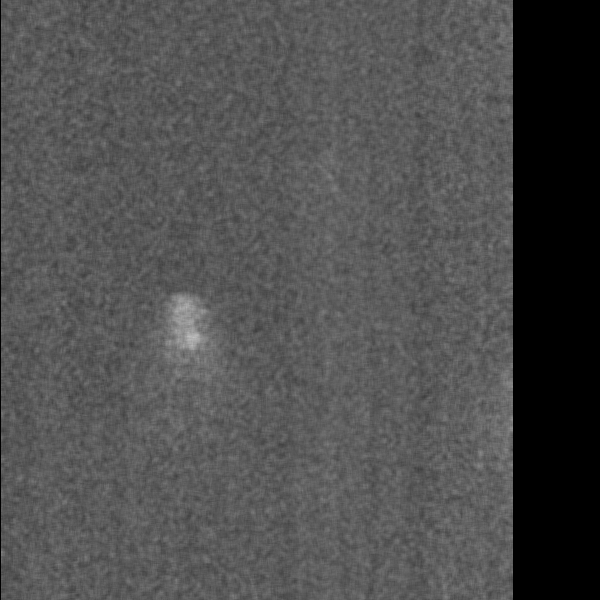spark: (325, 235, 378, 302), (481, 310, 505, 380), (132, 506, 156, 558), (413, 27, 445, 63), (17, 531, 41, 578), (405, 281, 440, 307), (359, 147, 385, 178), (377, 39, 394, 67)
